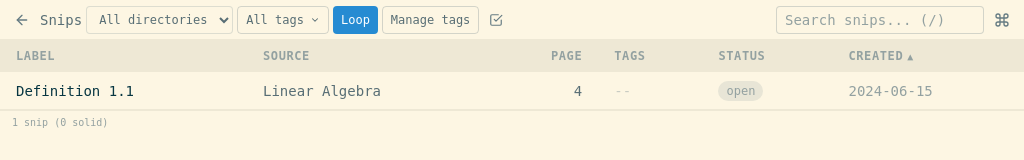
Scenario: SnipsPage › Select button toggles checkboxes on
Click the button named "Toggle select mode" at (496, 20), box [483,6,509,32]
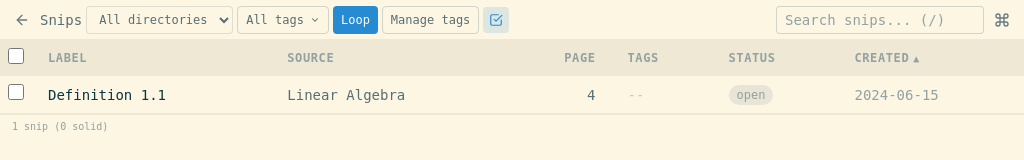
Check: the checkbox next to "Definition 1.1" is shown, box [8,84,24,100]
Check: the checkbox next to "Label" is shown, box [8,48,24,64]
